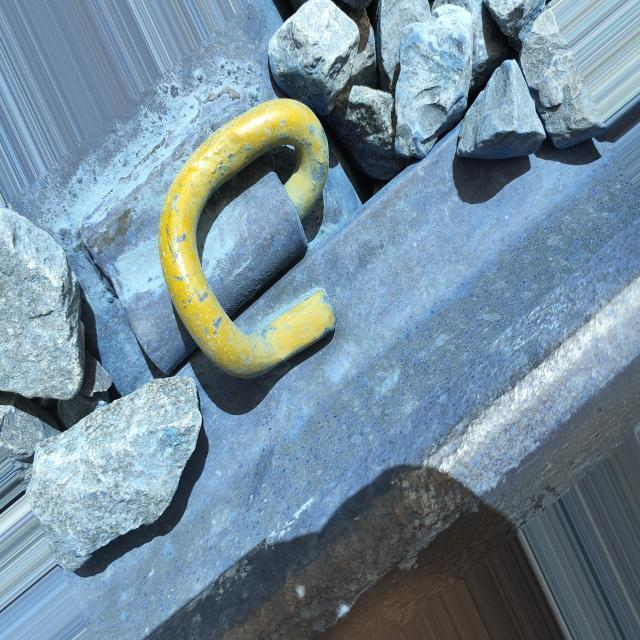Good Fasteners: (70, 88, 340, 402)
